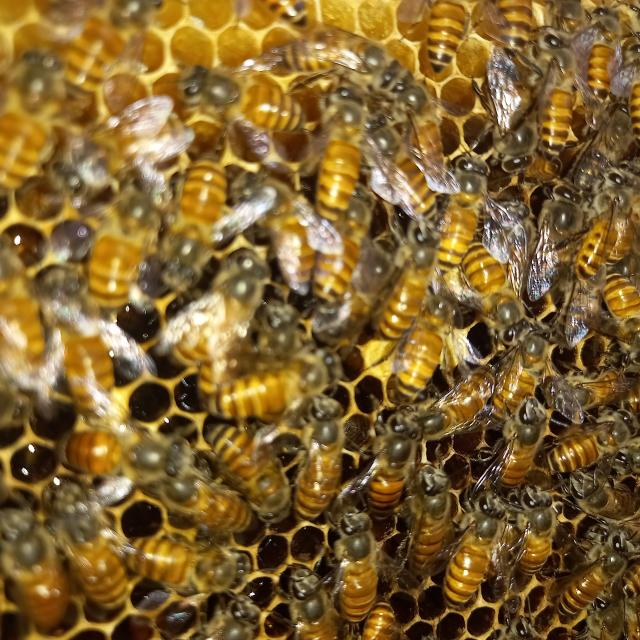honeybee: (34, 260, 147, 427), (68, 179, 195, 311), (52, 96, 193, 199), (148, 146, 259, 275), (178, 60, 328, 147), (194, 348, 355, 424), (225, 166, 308, 307), (274, 101, 370, 220), (485, 311, 573, 435), (172, 254, 258, 371), (0, 504, 78, 624), (438, 492, 513, 613), (51, 492, 127, 611), (0, 50, 62, 192), (289, 402, 360, 520), (208, 427, 296, 520), (62, 424, 190, 486), (366, 119, 433, 236), (400, 66, 463, 186), (131, 528, 239, 598), (533, 168, 587, 301), (252, 31, 380, 87), (436, 142, 488, 278), (318, 238, 384, 339), (1, 256, 50, 390), (54, 15, 124, 106), (536, 416, 635, 480), (347, 34, 434, 106), (512, 479, 567, 592), (325, 511, 384, 616), (400, 460, 457, 568), (390, 383, 501, 438), (574, 459, 640, 547), (302, 205, 356, 310), (362, 413, 421, 509), (574, 0, 630, 97), (537, 26, 581, 149), (466, 253, 522, 346), (562, 103, 623, 183), (576, 181, 624, 281), (383, 228, 422, 340), (562, 550, 618, 627), (602, 165, 640, 278), (613, 28, 640, 149), (604, 283, 640, 372), (484, 0, 541, 55), (426, 0, 466, 70), (364, 595, 413, 640), (109, 0, 171, 31), (264, 0, 314, 30), (621, 564, 640, 601)
